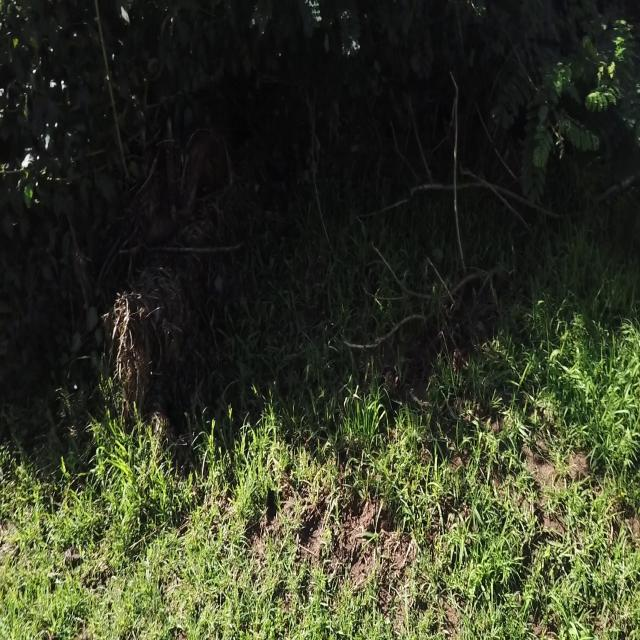Mysore-Thorn-Weed: (496, 50, 600, 194)
